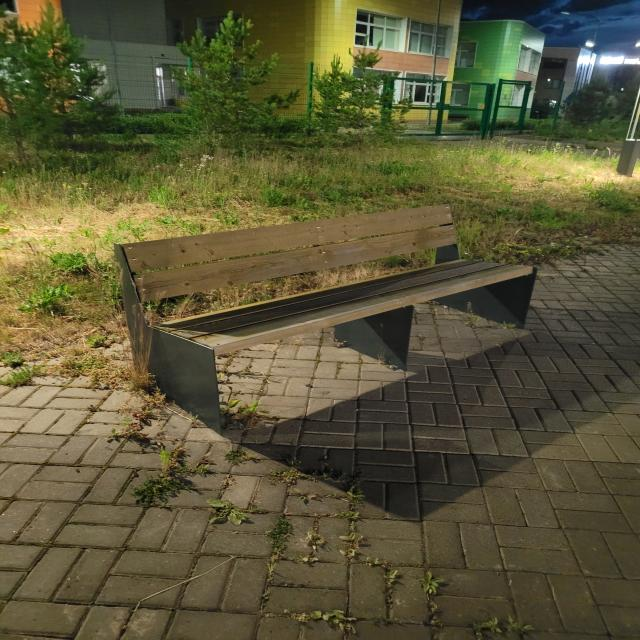Bench: (114, 204, 538, 433)
